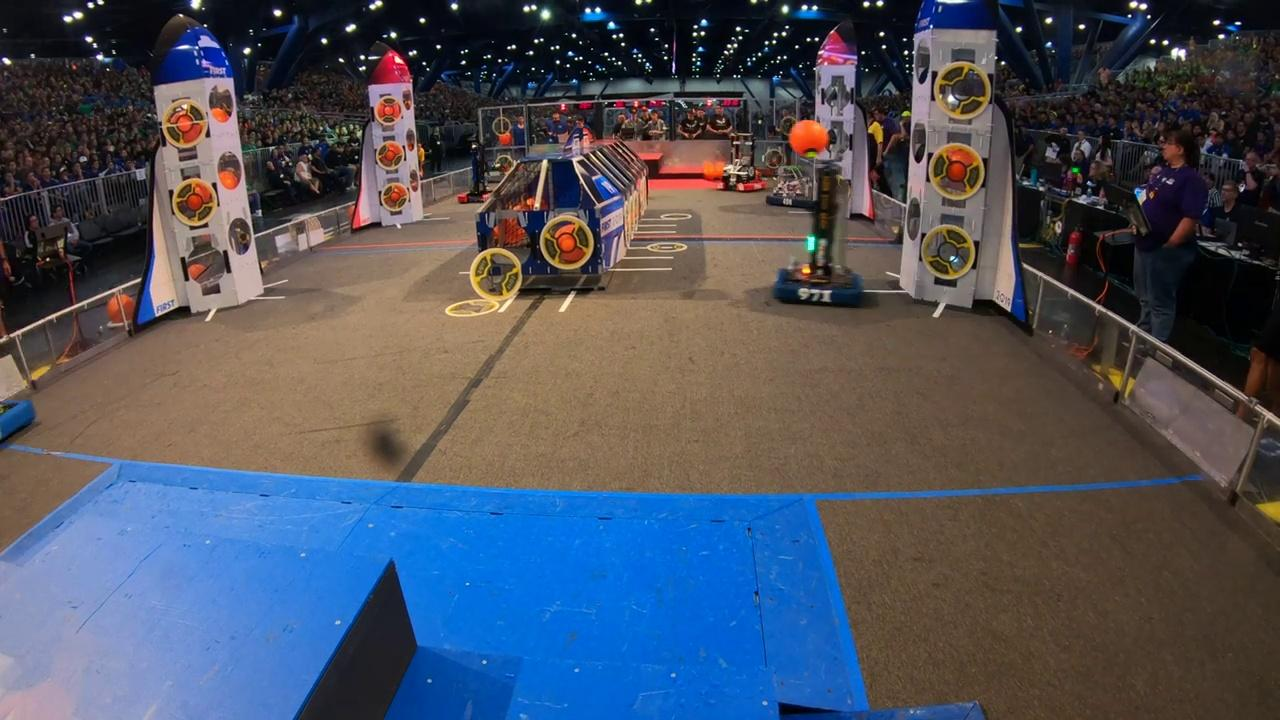robot: (770, 114, 869, 309), (713, 129, 769, 193), (457, 137, 499, 206), (762, 163, 822, 210)
